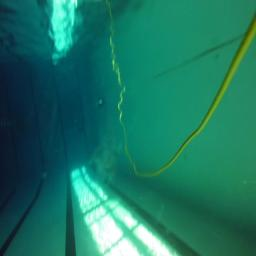Full: (96, 98, 104, 106)
